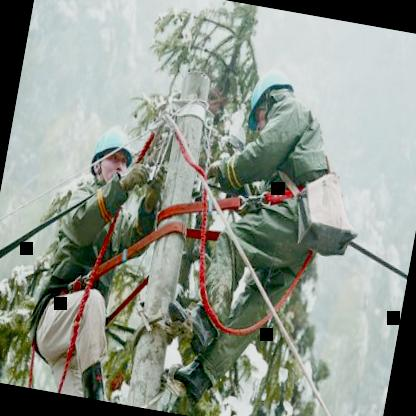helmet: (240, 62, 300, 141), (85, 120, 136, 189)
